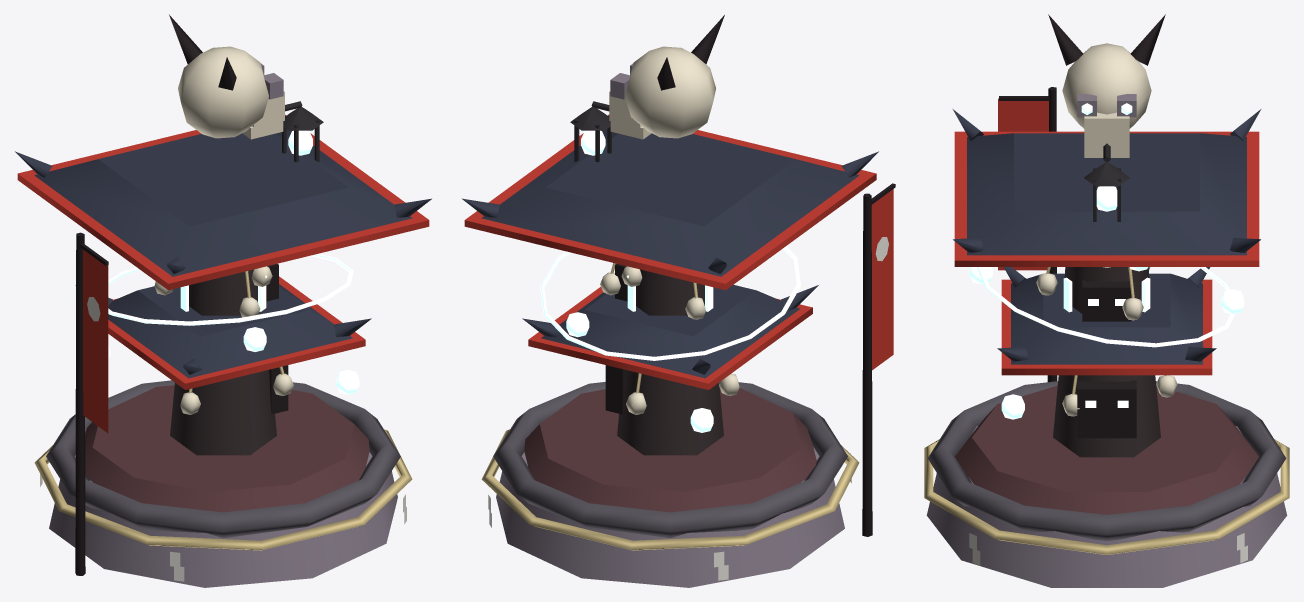
File: tower_necromancer_soulLegion.glb
3 renders of one model, left to right at view 1: azimuth 30°, elevation 25°; view 2: azimuth 150°, elevation 25°; view 3: azimuth 270°, elevation 25°, orthographic.
Parts seen in each view (by area): view 1: deco_eave_0_roof, grave_soil, base, base_rim, deco_eave_1_roof, deco_eave_0_rim, pole_0, skull_cranium, deco_shimenawa_rope, deco_nobori_cloth, deco_eave_1_rim, deco_nobori_pole (+7 smaller); view 2: deco_eave_0_roof, grave_soil, base, base_rim, deco_eave_1_roof, deco_eave_0_rim, pole_0, skull_cranium, deco_shimenawa_rope, deco_eave_1_rim, deco_nobori_cloth, deco_nobori_pole (+7 smaller); view 3: deco_eave_0_roof, grave_soil, base, base_rim, deco_eave_1_roof, deco_eave_0_rim, deco_shimenawa_rope, skull_cranium, pole_0, deco_eave_1_rim, pole_face_0, deco_nobori_cloth (+13 smaller).
Part boxes in pixels (x1,y1,x2,y2): deco_eave_0_roof: (34,129,412,276); grave_soil: (85,385,369,512); base: (49,452,397,587); base_rim: (46,380,400,538); deco_eave_1_roof: (108,284,352,378); deco_eave_0_rim: (17,114,429,290); pole_0: (170,370,276,455); skull_cranium: (178,46,268,138); deco_shimenawa_rope: (34,429,412,550); deco_nobori_cloth: (83,249,108,433); deco_eave_1_rim: (108,276,365,389); deco_nobori_pole: (75,232,85,575); deco_eave_0_roof: (481,129,859,276); grave_soil: (524,388,816,512); base: (496,447,844,587); base_rim: (493,382,847,538); deco_eave_1_roof: (541,284,799,378); deco_eave_0_rim: (464,114,876,290); pole_0: (617,370,723,455); skull_cranium: (625,46,715,138); deco_shimenawa_rope: (481,429,859,550); deco_eave_1_rim: (528,287,812,389); deco_nobori_cloth: (871,189,893,370); deco_nobori_pole: (862,193,872,536); deco_eave_0_roof: (967,133,1246,255); grave_soil: (955,385,1258,514); base: (926,426,1287,587); base_rim: (927,381,1286,540); deco_eave_1_roof: (1011,273,1202,364); deco_eave_0_rim: (954,131,1259,266); deco_shimenawa_rope: (924,439,1289,554); skull_cranium: (1062,43,1151,128); pole_0: (1053,375,1160,457); deco_eave_1_rim: (1001,279,1212,375); pole_face_0: (1077,380,1136,438); deco_nobori_cloth: (998,98,1048,270).
Bounding box in the file's own units: 0.4387 × 0.5985 × 0.4052.
